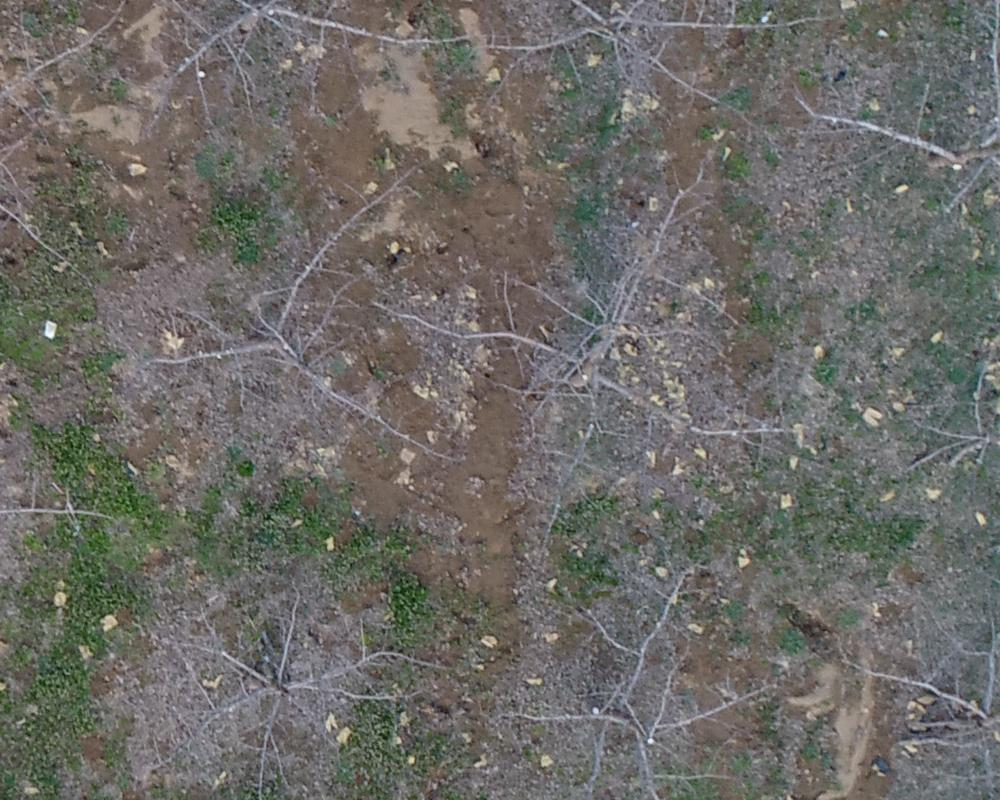apple: (383, 184, 721, 463), (142, 174, 465, 455), (516, 563, 775, 790), (152, 588, 429, 790), (802, 10, 990, 282), (453, 10, 807, 125), (824, 545, 990, 790), (901, 363, 990, 479)
